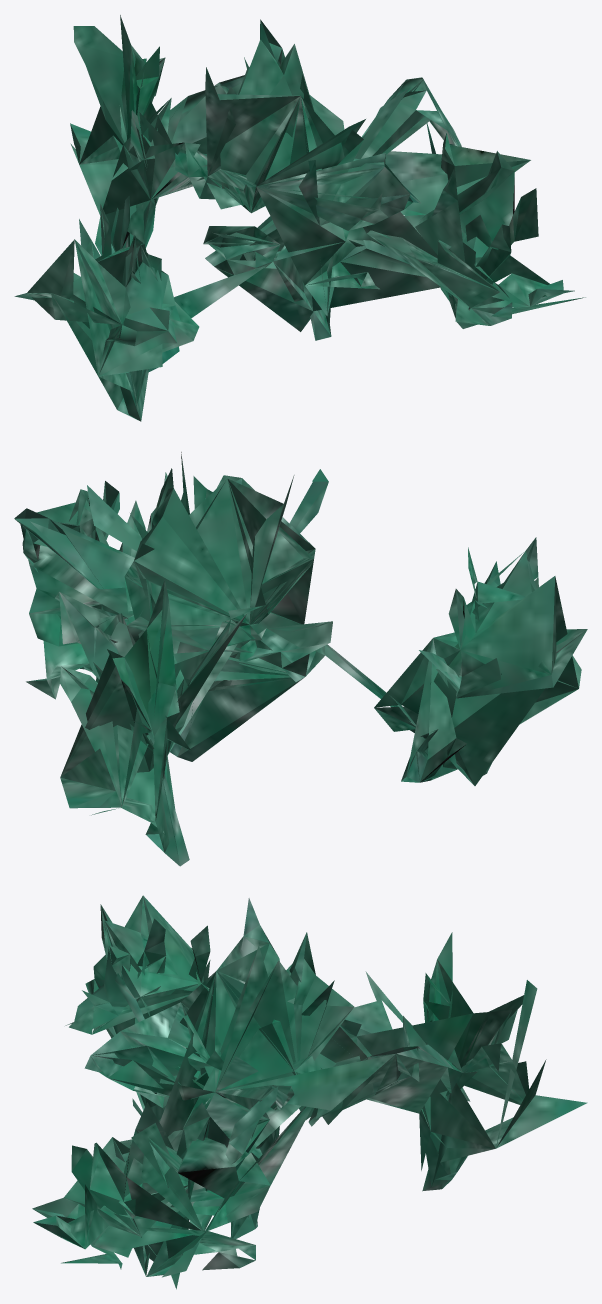
Rendered from crystal_cluster_1827420355_lod0.glb.
3 renders of one model, top to bottom at view 1: azimuth 30°, elevation 25°; view 2: azimuth 150°, elevation 25°; view 3: azimuth 270°, elevation 25°, orthographic. The views are drawn at different scales.
Bounding box in the file's own units: 2.55 × 1.45 × 2.55.
Materials: 1 (1 with a texture image).
